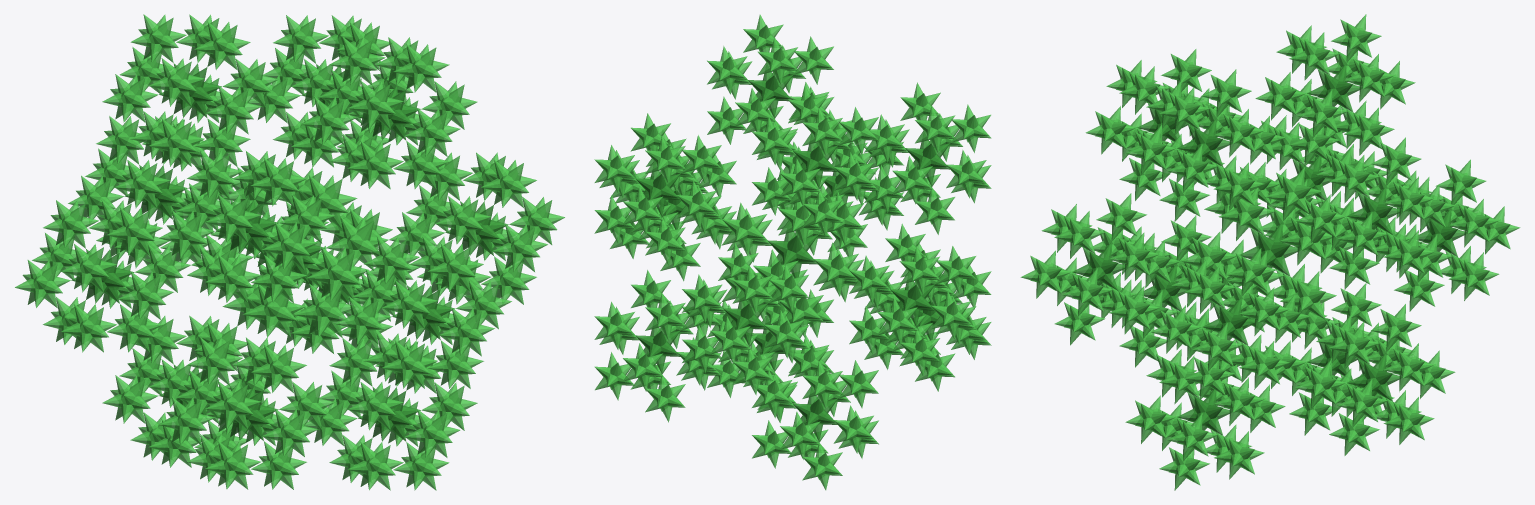
Rendered from fractalsmallditrigonaldodecacronichexecontahedron2.glb.
3 views of the same model, side by side, from view 1: azimuth 30°, elevation 25°; view 2: azimuth 150°, elevation 25°; view 3: azimuth 270°, elevation 25° (orthographic). The views are drawn at different scales.
Bounding box in the file's own units: 11.67 × 10.19 × 11.67.
